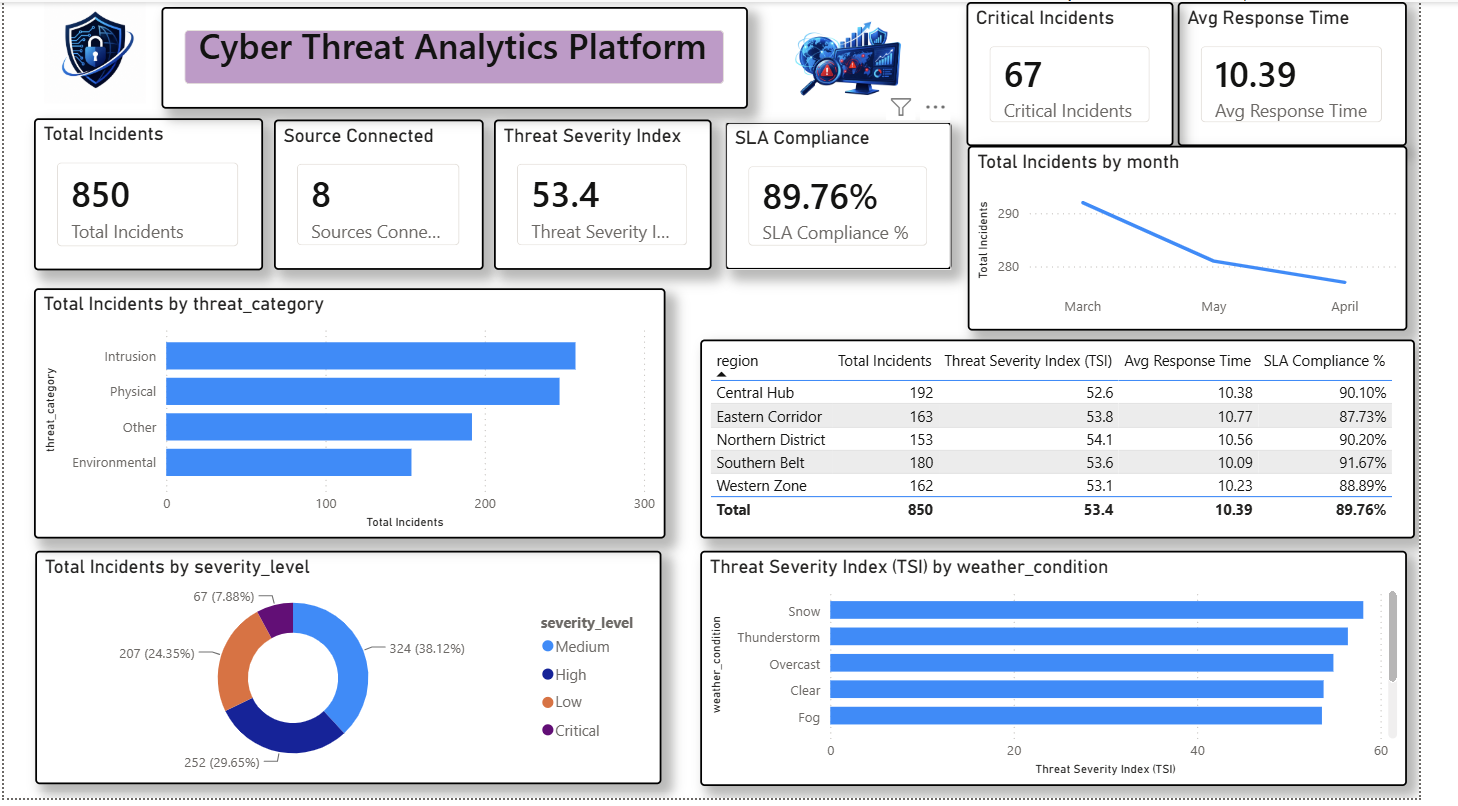

The page's visual inventory and layout, read from the dashboard file:
{"tool":"powerbi","page":{"name":"Security Intelligence","canvas":[1280,720],"ordinal":0},"visuals":[{"type":"cardVisual","title":"Total Incidents","fields":{"Data":["_Measures.Total Incidents"]},"box":[26.7,104.7,207,137.2],"z":0},{"type":"cardVisual","title":"Source Connected ","fields":{"Data":["_Measures.Sources Connected"]},"box":[244.2,105.8,189.5,136],"z":1000},{"type":"cardVisual","title":"Threat Severity Index","fields":{"Data":["_Measures.Threat Severity Index (TSI)"]},"box":[443,105.8,196.5,136],"z":2000},{"type":"cardVisual","title":"SLA Compliance","fields":{"Data":["_Measures.SLA Compliance %"]},"box":[652.3,108.1,204.7,133.7],"z":3000},{"type":"cardVisual","title":"Avg Response Time","fields":{"Data":["_Measures.Avg Response Time"]},"box":[1061.6,0,207,130.2],"z":4000},{"type":"cardVisual","title":"Critical Incidents","fields":{"Data":["_Measures.Critical Incidents"]},"box":[870.9,0,187.2,130.2],"z":5000},{"type":"donutChart","fields":{"Category":["dim_severity.severity_level"],"Y":["_Measures.Total Incidents"]},"box":[28.8,496.7,566.7,211.3],"z":6000},{"type":"clusteredBarChart","fields":{"Category":["dim_threat_type.threat_category"],"Y":["_Measures.Total Incidents"]},"box":[26.7,259.3,570.9,226.7],"z":7000},{"type":"lineChart","fields":{"Category":["dim_date.month"],"Y":["_Measures.Total Incidents"]},"box":[882.6,130.2,397.7,167.4],"z":8000},{"type":"tableEx","fields":{"Values":["dim_location.region","_Measures.Total Incidents","_Measures.Threat Severity Index (TSI)","_Measures.Avg Response Time","_Measures.SLA Compliance %"]},"box":[630.2,305.8,646.5,180.2],"z":9000},{"type":"clusteredBarChart","fields":{"Category":["fact_incident.weather_condition"],"Y":["_Measures.Threat Severity Index (TSI)"]},"box":[630.2,496.5,639.5,212.8],"z":10000},{"type":"cardVisual","fields":{"Data":["_Measures.Dashboard Title1"]},"box":[143,4.7,530.2,91.9],"z":11000},{"type":"image","box":[33.7,0,96.5,91.9],"z":12000},{"type":"image","box":[703.5,2.3,120.9,102.3],"z":13000}]}

Visuals, with their boxes in screenshot pixels (x1, y1, x2, y2), scaled from the page's 1280x720 canvas onto the 1458x806 screenshot:
"Total Incidents" cardVisual: 30/117/266/271
"Source Connected " cardVisual: 278/118/494/271
"Threat Severity Index" cardVisual: 505/118/728/271
"SLA Compliance" cardVisual: 743/121/976/271
"Avg Response Time" cardVisual: 1209/0/1445/146
"Critical Incidents" cardVisual: 992/0/1205/146
donutChart - dim_severity.severity_level x _Measures.Total Incidents: 33/556/678/793
clusteredBarChart - dim_threat_type.threat_category x _Measures.Total Incidents: 30/290/681/544
lineChart - dim_date.month x _Measures.Total Incidents: 1005/146/1457/333
tableEx - dim_location.region x _Measures.Total Incidents: 718/342/1454/544
clusteredBarChart - fact_incident.weather_condition x _Measures.Threat Severity Index (TSI): 718/556/1446/794
cardVisual - _Measures.Dashboard Title1: 163/5/767/108
image: 38/0/148/103
image: 801/3/939/117
